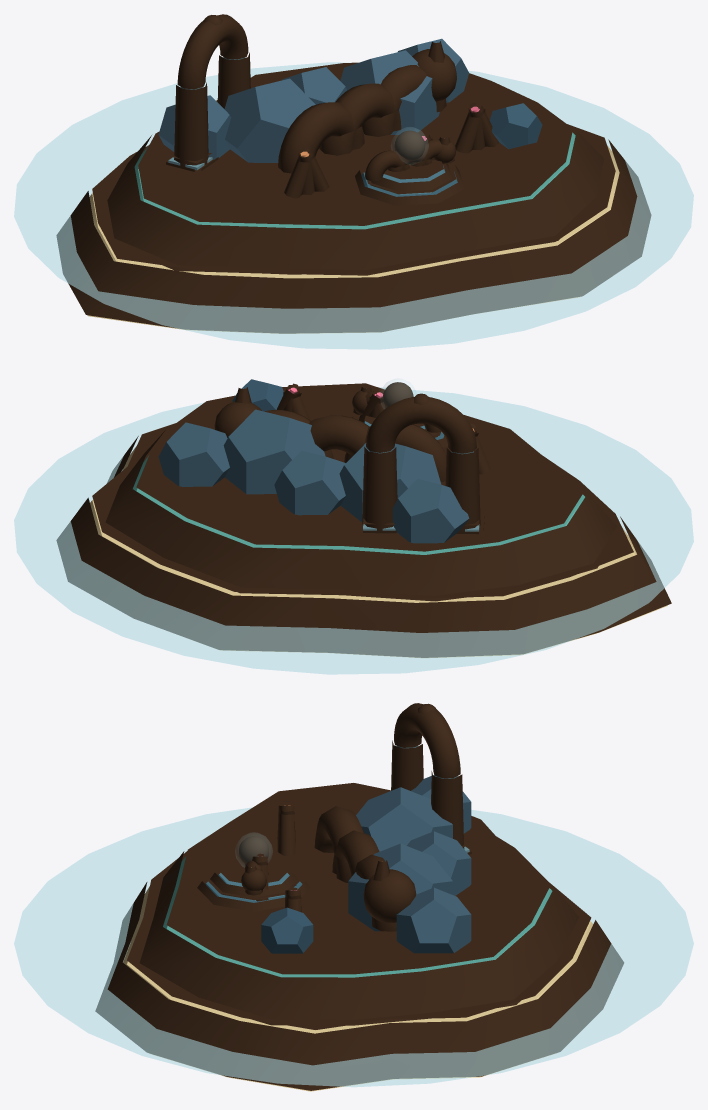
File: island-abyss.glb
The picture shows the model from 3 angles, top to bottom: view 1: azimuth 30°, elevation 25°; view 2: azimuth 150°, elevation 25°; view 3: azimuth 270°, elevation 25°; orthographic projection.
Visible parts, largest first — view 1: outline (×15), Group (×3); view 2: outline (×9), Group (×3); view 3: outline (×13), Group (×3).
Boxes of the visible parts, x1,y1,x2,y2 form: outline (×15): (56, 14, 651, 333); Group (×3): (14, 38, 693, 349); outline (×9): (56, 382, 671, 657); Group (×3): (14, 379, 693, 674); outline (×13): (95, 703, 623, 1090); Group (×3): (14, 775, 693, 1091).
Size of the model in its own units: 5.1 by 1.77 by 5.1.
